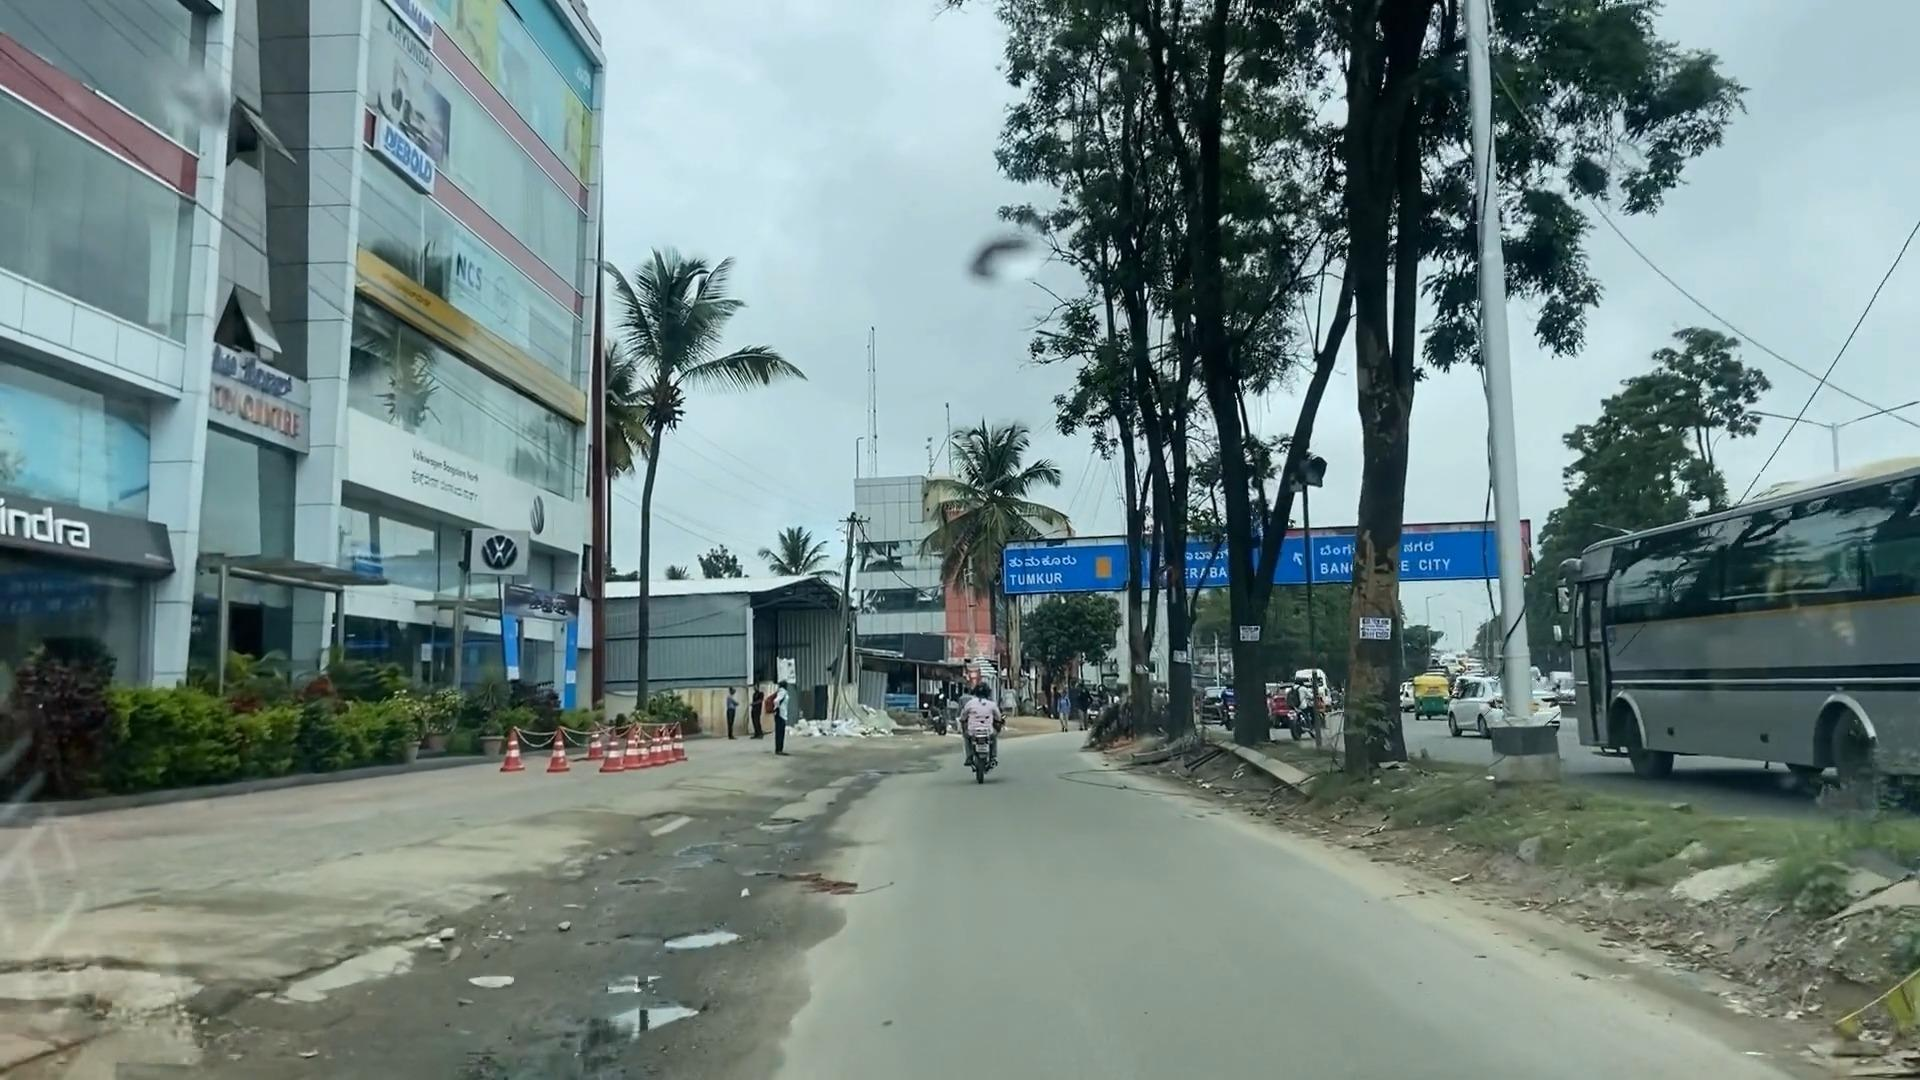RoadDamages: (483, 866, 853, 947), (533, 960, 729, 1080), (390, 971, 533, 1080)
